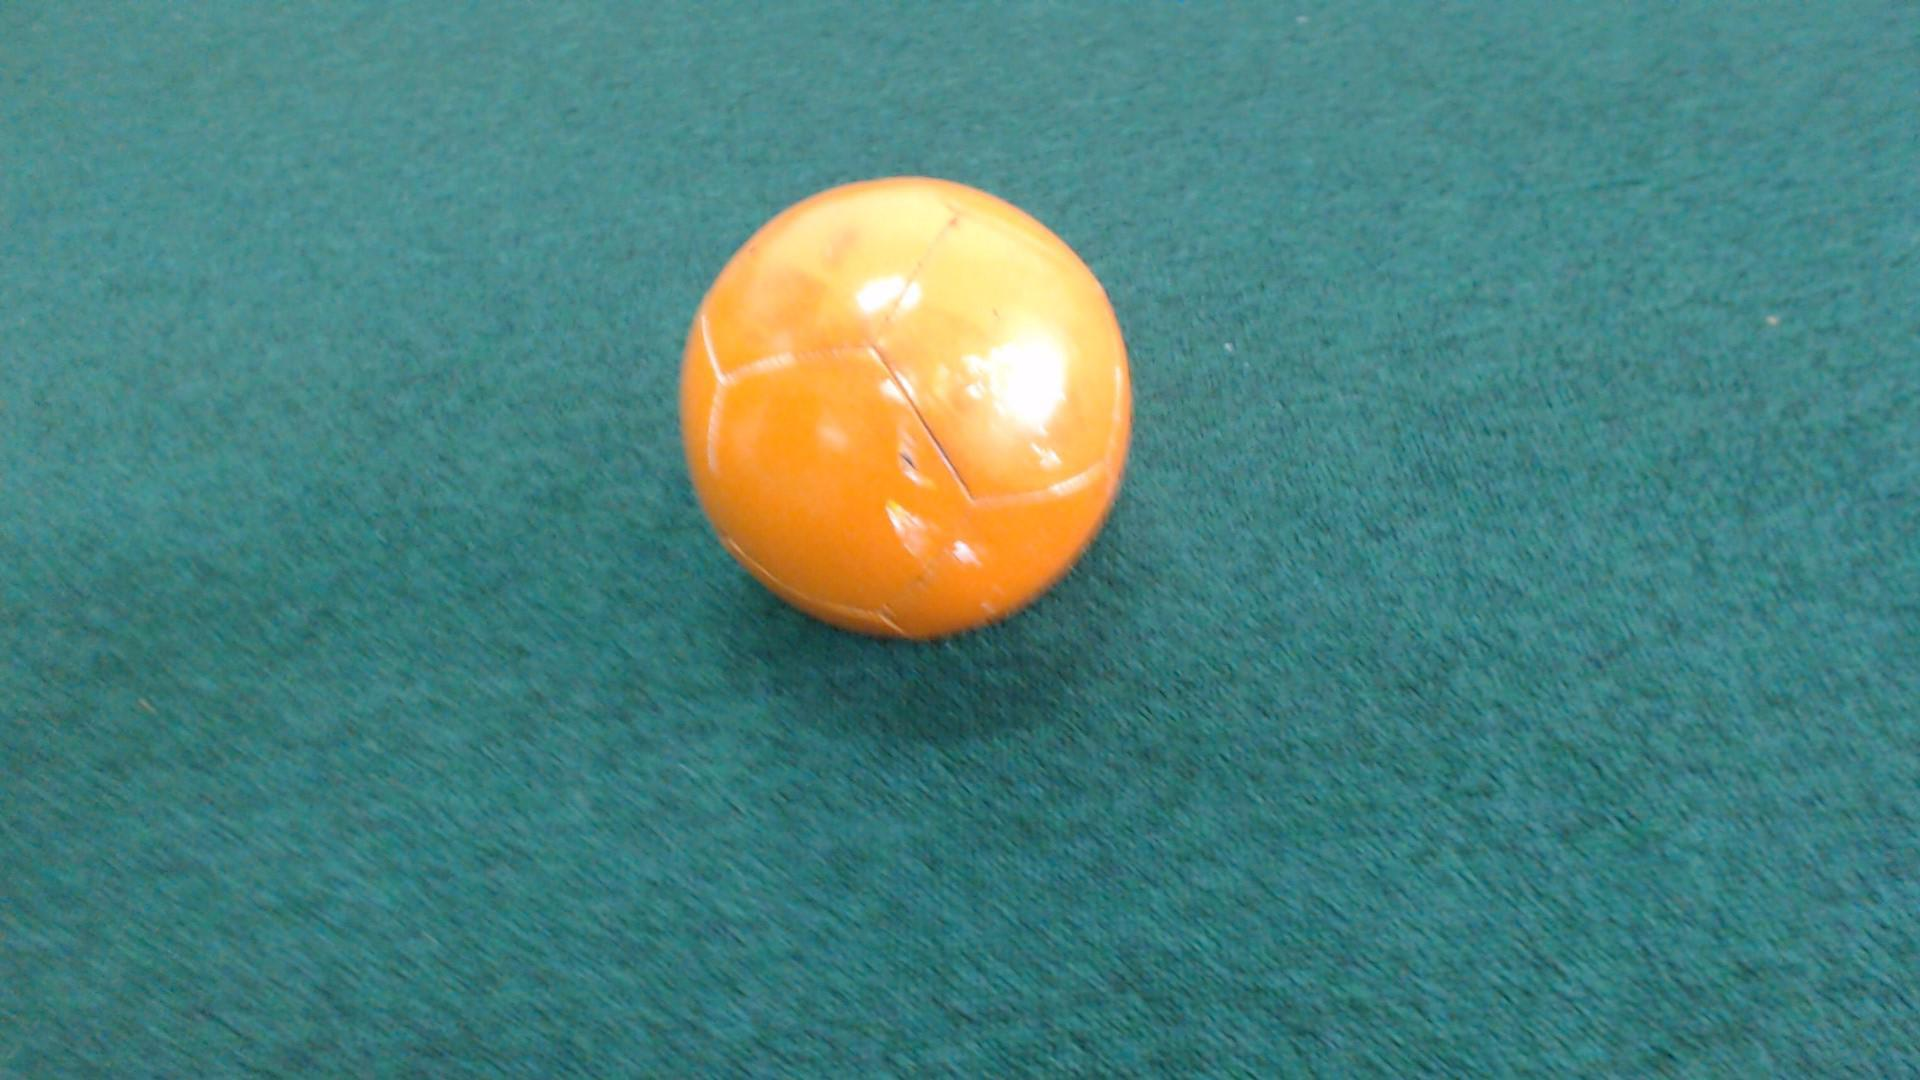bola: (634, 157, 1151, 655)
